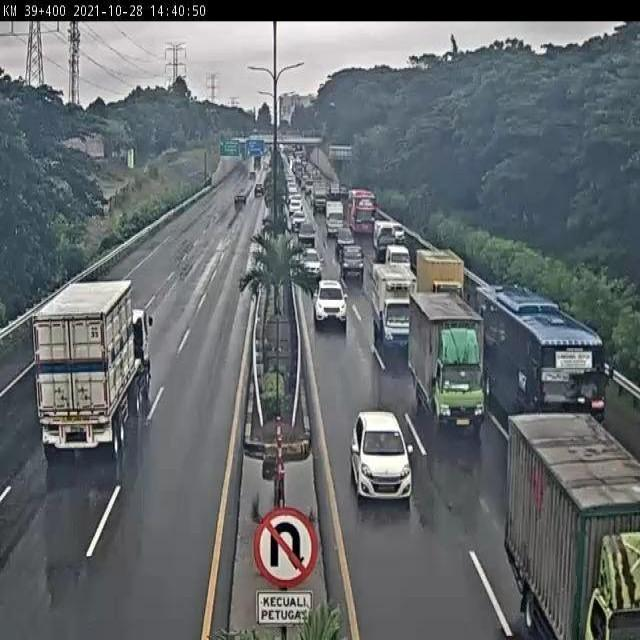big bus: (480, 284, 609, 432)
big truck: (37, 277, 153, 459)
car: (349, 409, 412, 499), (311, 278, 350, 326)
mid truck: (406, 292, 486, 431), (372, 262, 418, 346), (416, 248, 465, 299)
